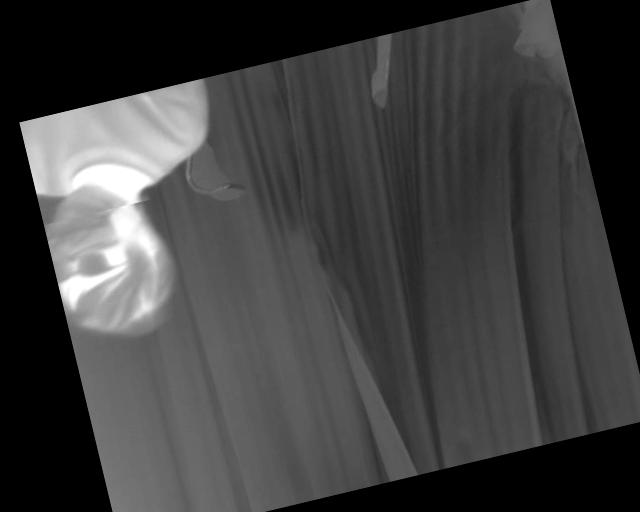face: (40, 169, 188, 348)
